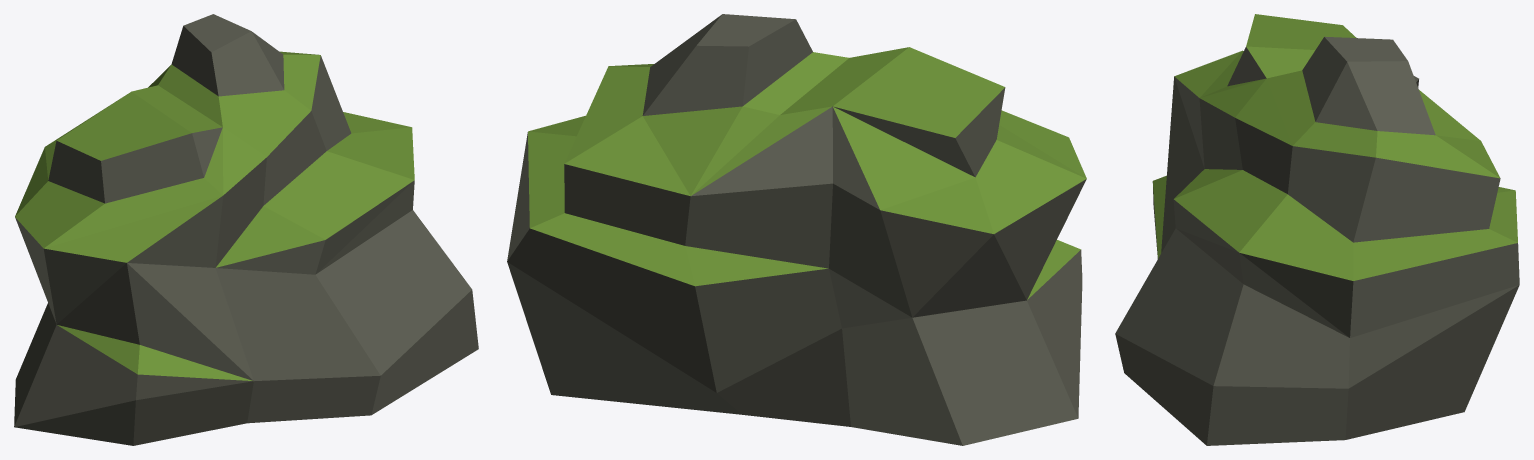
File: green_rock_L_01.fbx
3 renders of one model, left to right at view 1: azimuth 30°, elevation 25°; view 2: azimuth 150°, elevation 25°; view 3: azimuth 270°, elevation 25°, orthographic. The views are drawn at different scales.
Parts seen in each view (by area): view 1: Cube.002; view 2: Cube.002; view 3: Cube.002.
Boxes of the visible parts, box(x1,y1,x2,y2) form: Cube.002: box(14, 14, 478, 445); Cube.002: box(507, 14, 1086, 445); Cube.002: box(1115, 14, 1519, 445).
Bounding box in the file's own units: 1351 × 911 × 1083.
